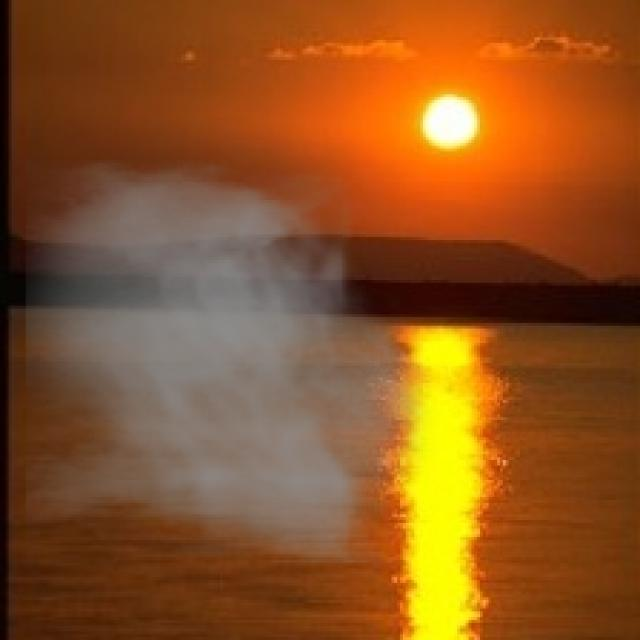smoke: (26, 160, 443, 563)
